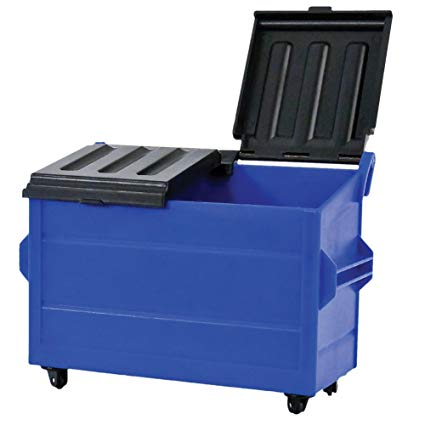Dumpster: (15, 6, 373, 413)
